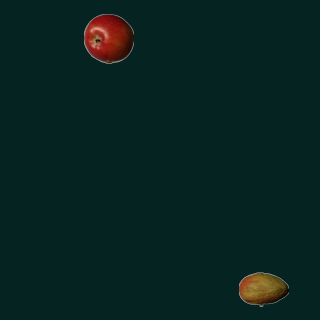Apple Braeburn: (83, 13, 133, 63)
Papaya: (238, 264, 288, 314)
